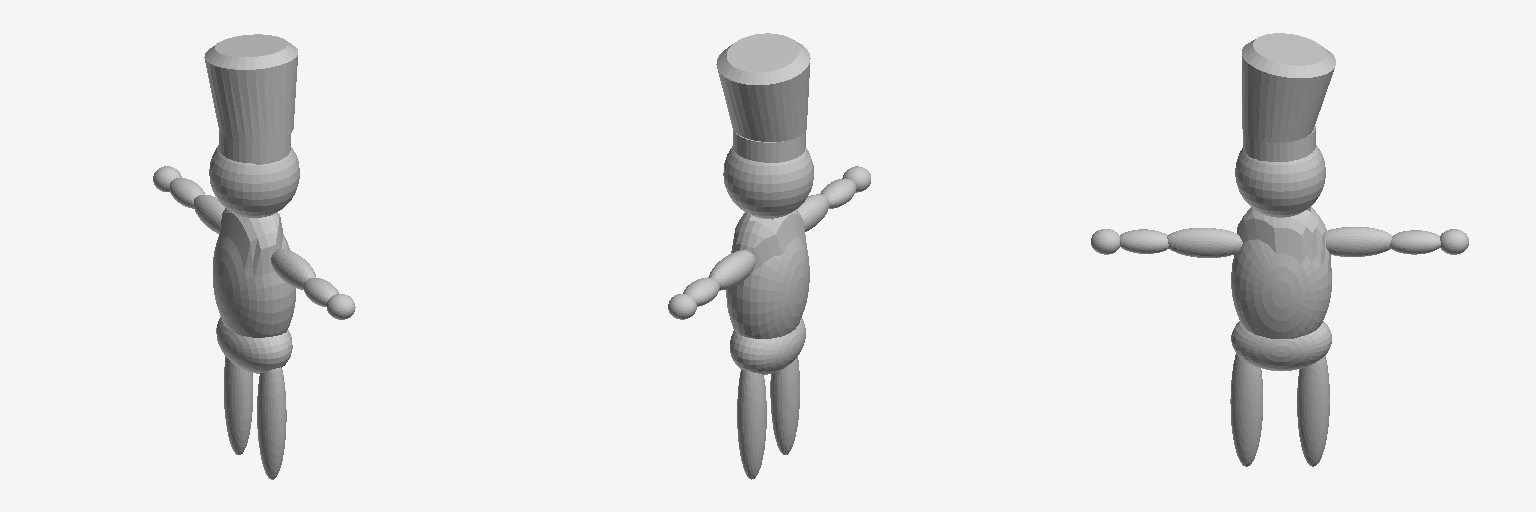
Rendered from chef.obj.
The picture shows the model from 3 angles: view 1: azimuth 30°, elevation 25°; view 2: azimuth 150°, elevation 25°; view 3: azimuth 270°, elevation 25°; orthographic projection.
Parts seen in each view (by area): view 1: Cylinder.001, Sphere.001, Sphere, Sphere.003, Sphere.002, Sphere.004, Sphere.008, Sphere.007, Sphere.010, Sphere.005, Sphere.009; view 2: Cylinder.001, Sphere.001, Sphere, Sphere.004, Sphere.002, Sphere.003, Sphere.007, Sphere.008, Sphere.005, Sphere.010, Sphere.006; view 3: Sphere.001, Cylinder.001, Sphere, Sphere.002, Sphere.003, Sphere.004, Sphere.008, Sphere.007, Sphere.010, Sphere.005, Sphere.009, Sphere.006.
Boxes of the visible parts, x1,y1,x2,y2 form: Cylinder.001: [204, 34, 297, 164]; Sphere.001: [213, 208, 295, 337]; Sphere: [209, 145, 299, 217]; Sphere.003: [257, 367, 286, 479]; Sphere.002: [216, 317, 292, 373]; Sphere.004: [224, 356, 252, 454]; Sphere.008: [271, 249, 315, 289]; Sphere.007: [193, 195, 224, 233]; Sphere.010: [169, 178, 204, 208]; Sphere.005: [304, 278, 338, 306]; Sphere.009: [327, 294, 355, 319]; Cylinder.001: [716, 33, 810, 162]; Sphere.001: [726, 209, 809, 338]; Sphere: [723, 146, 813, 218]; Sphere.004: [737, 370, 766, 479]; Sphere.002: [730, 318, 805, 374]; Sphere.003: [770, 356, 799, 454]; Sphere.007: [709, 250, 755, 290]; Sphere.008: [797, 194, 829, 231]; Sphere.005: [820, 178, 856, 208]; Sphere.010: [683, 277, 719, 306]; Sphere.006: [668, 294, 696, 319]; Sphere.001: [1231, 207, 1331, 338]; Cylinder.001: [1242, 33, 1335, 161]; Sphere: [1235, 145, 1325, 217]; Sphere.002: [1231, 321, 1331, 370]; Sphere.003: [1230, 353, 1262, 466]; Sphere.004: [1297, 355, 1329, 466]; Sphere.008: [1167, 228, 1242, 257]; Sphere.007: [1326, 227, 1391, 256]; Sphere.010: [1390, 230, 1440, 254]; Sphere.005: [1120, 229, 1168, 253]; Sphere.009: [1091, 229, 1119, 254]; Sphere.006: [1440, 229, 1468, 254].
Bounding box in the file's own units: 1.69 × 8.41 × 6.83.